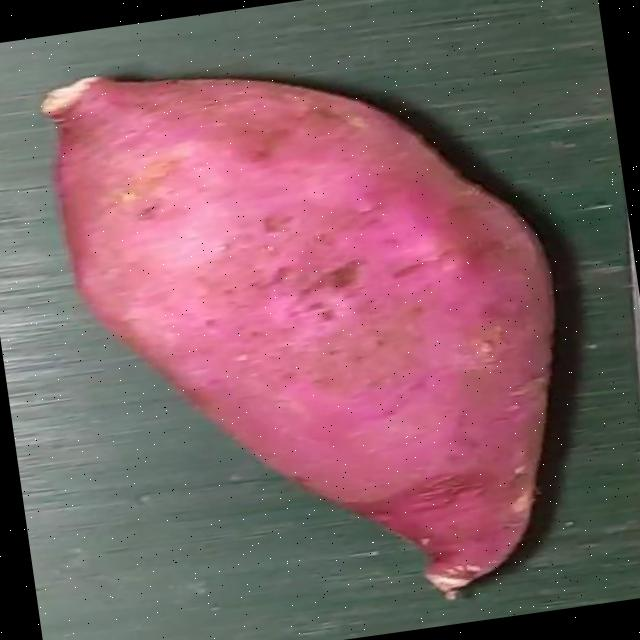Sweet Potato: (38, 73, 556, 600)
